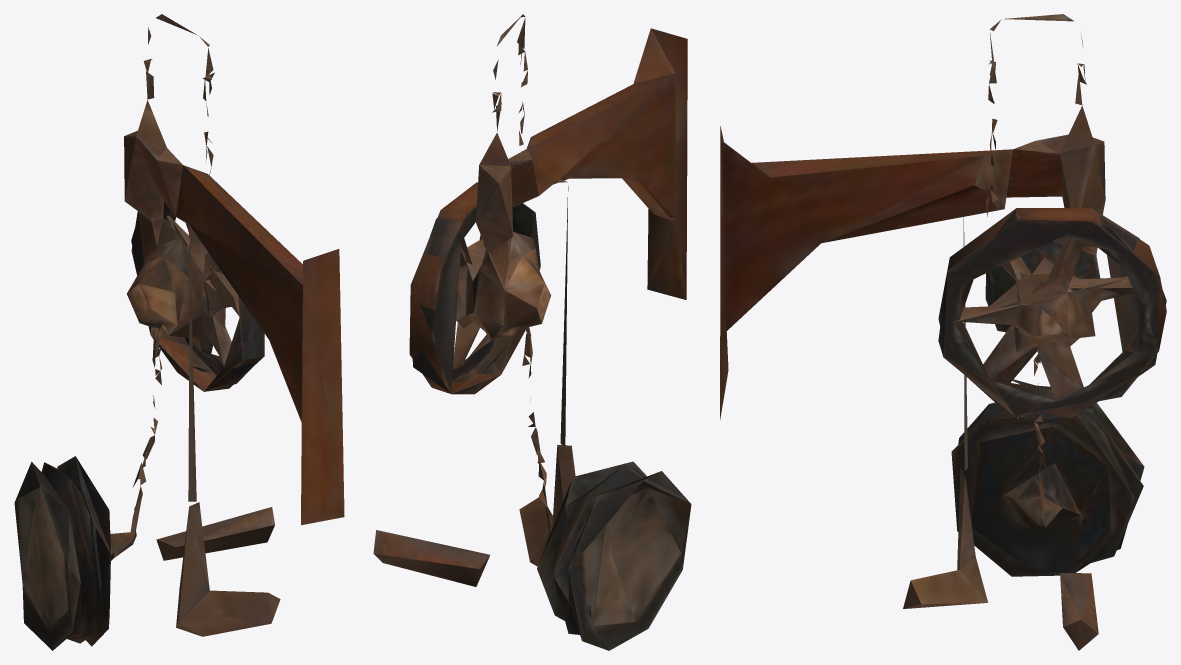
Rendered from mj-gym-weight-machine.lod1.glb.
3 views of the same model, side by side, from view 1: azimuth 30°, elevation 25°; view 2: azimuth 150°, elevation 25°; view 3: azimuth 270°, elevation 25° (orthographic). The views are drawn at different scales.
Parts seen in each view (by area): view 1: mj-gym-weight-machine; view 2: mj-gym-weight-machine; view 3: mj-gym-weight-machine.
Boxes of the visible parts, left/top/right/bottom form: mj-gym-weight-machine: left=14, top=14, right=344, bottom=650; mj-gym-weight-machine: left=373, top=14, right=691, bottom=650; mj-gym-weight-machine: left=720, top=14, right=1166, bottom=650.
Size of the model in its own units: 0.9286 by 1.99 by 1.32.
1 material, 1 textured.
